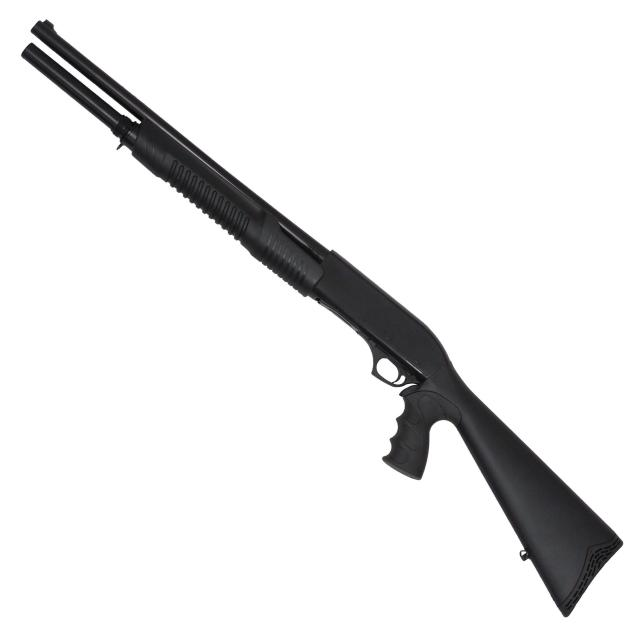ShotGun: (20, 20, 624, 619)
